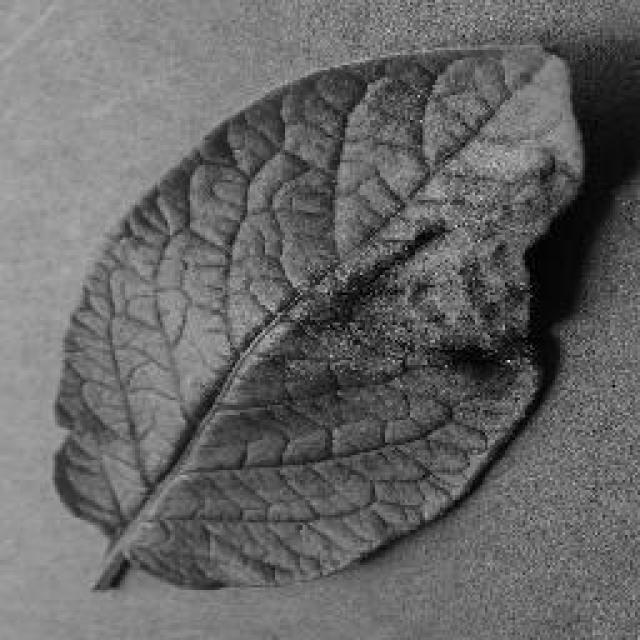Potato: (50, 40, 585, 592)
